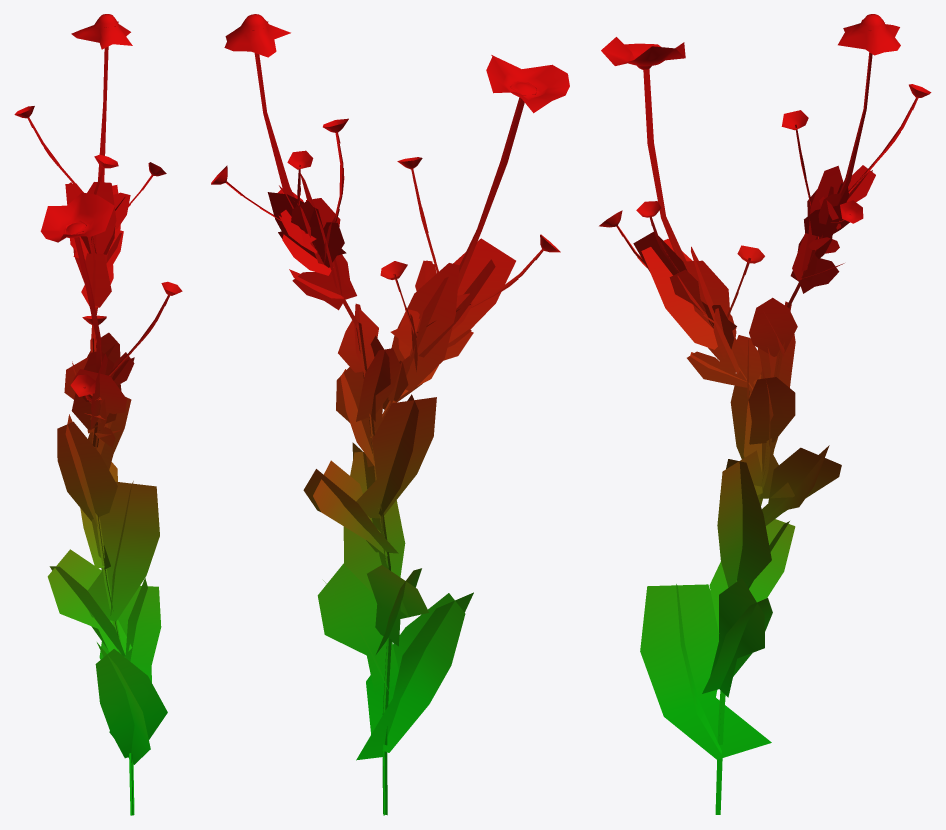
Rendered from Chamomile_LOD1_Var7_ujcnejvja.fbx.
3 renders of one model, left to right at view 1: azimuth 30°, elevation 25°; view 2: azimuth 150°, elevation 25°; view 3: azimuth 270°, elevation 25°, orthographic. The views are drawn at different scales.
Parts seen in each view (by area): view 1: _qrdk_Var7_LOD1; view 2: _qrdk_Var7_LOD1; view 3: _qrdk_Var7_LOD1.
Part boxes in pixels (<box>): _qrdk_Var7_LOD1: <box>14,14,182,815</box>; _qrdk_Var7_LOD1: <box>211,14,569,815</box>; _qrdk_Var7_LOD1: <box>599,14,931,814</box>.
Bounding box in the file's own units: 14.29 × 47.31 × 17.33.
